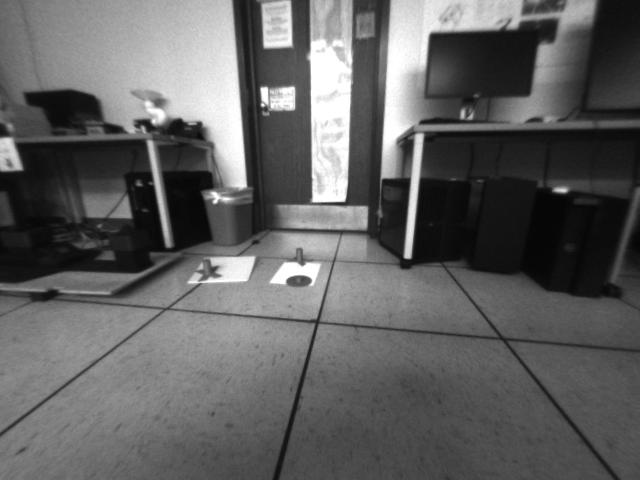X: (191, 258, 219, 280), (291, 248, 314, 268)
